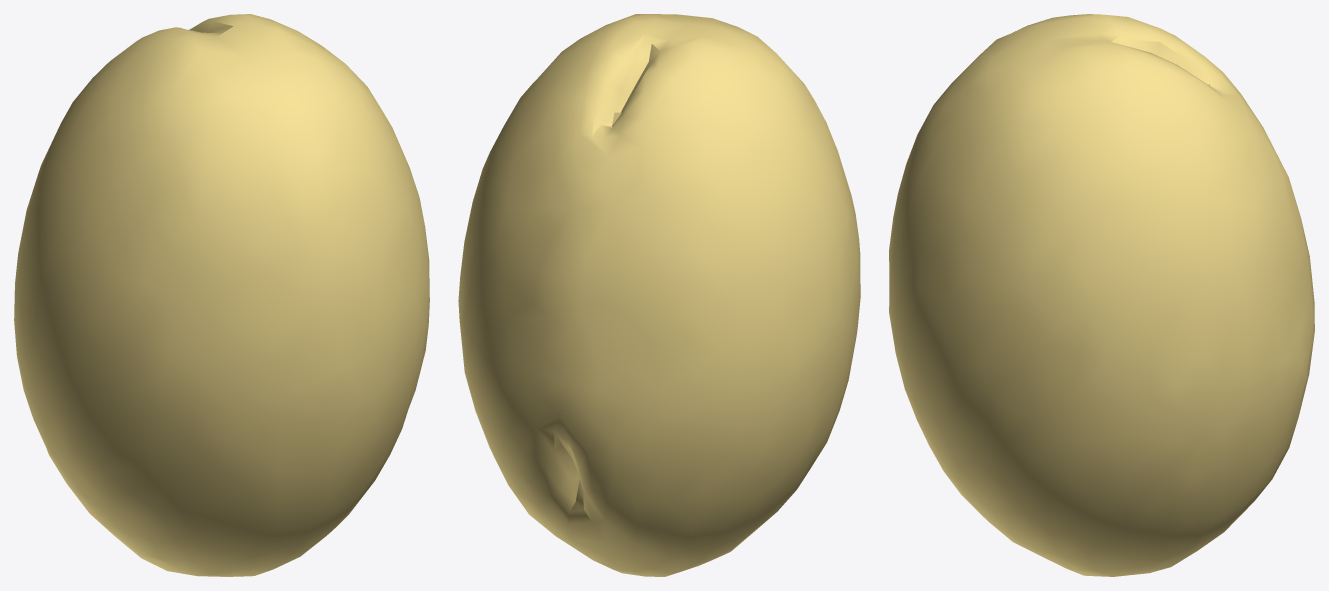
Rendered from fma73484_mm3563.glb.
The picture shows the model from 3 angles, left to right: view 1: azimuth 30°, elevation 25°; view 2: azimuth 150°, elevation 25°; view 3: azimuth 270°, elevation 25°; orthographic projection. The views are drawn at different scales.
Parts seen in each view (by area): view 1: FMA73484_MM3563; view 2: FMA73484_MM3563; view 3: FMA73484_MM3563.
Boxes of the visible parts, x1,y1,x2,y2 form: FMA73484_MM3563: (14,14,429,576); FMA73484_MM3563: (458,14,860,576); FMA73484_MM3563: (889,14,1314,576).
Bounding box in the file's own units: 0.00133 × 0.00193 × 0.0014.
